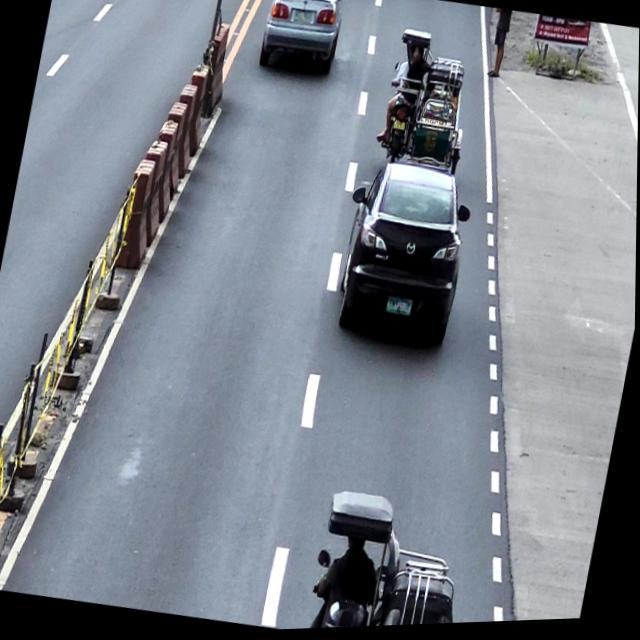Car: (325, 156, 479, 358), (256, 0, 350, 84)
License-Plate: (385, 297, 414, 321), (293, 11, 313, 27), (392, 121, 406, 135)
Tricycle: (308, 485, 481, 631), (374, 25, 483, 186)
